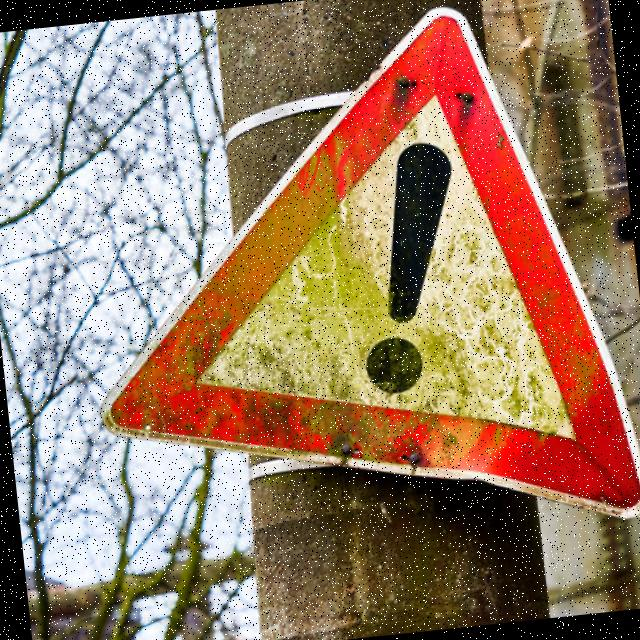warning: (51, 0, 640, 577)
